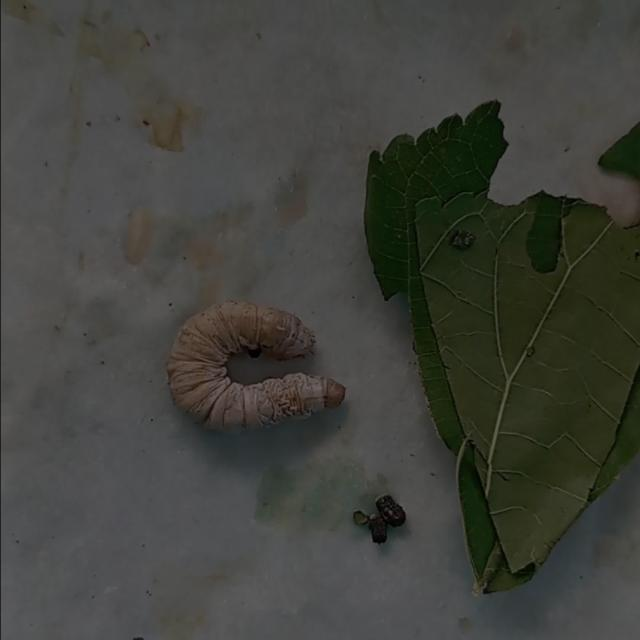Grasserie: (152, 278, 362, 444)
